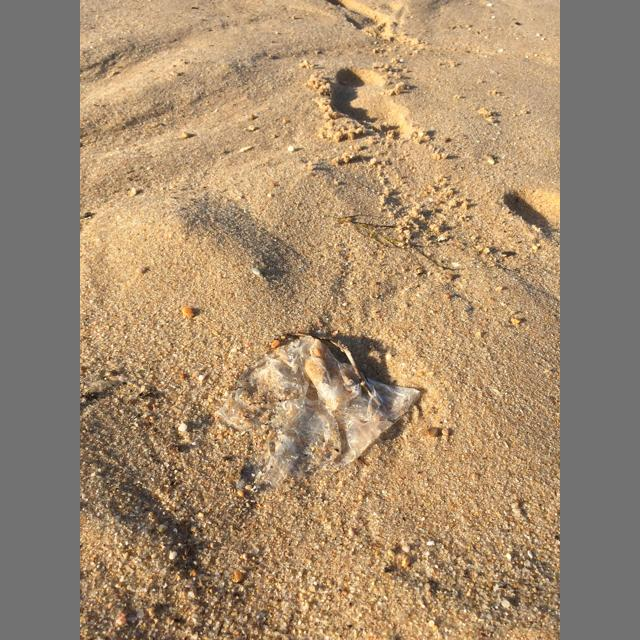litter: (214, 335, 420, 494)
